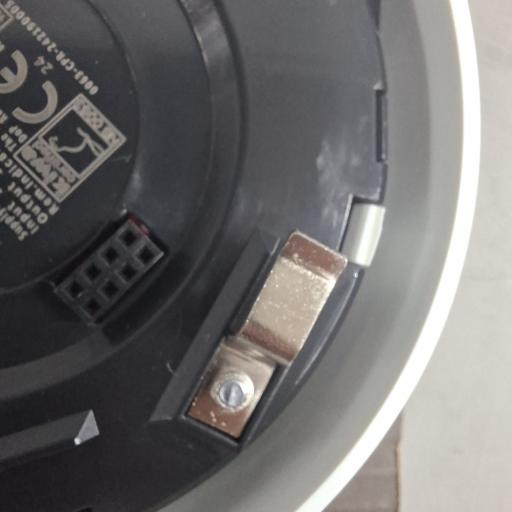yaysiz: (187, 214, 354, 436)
